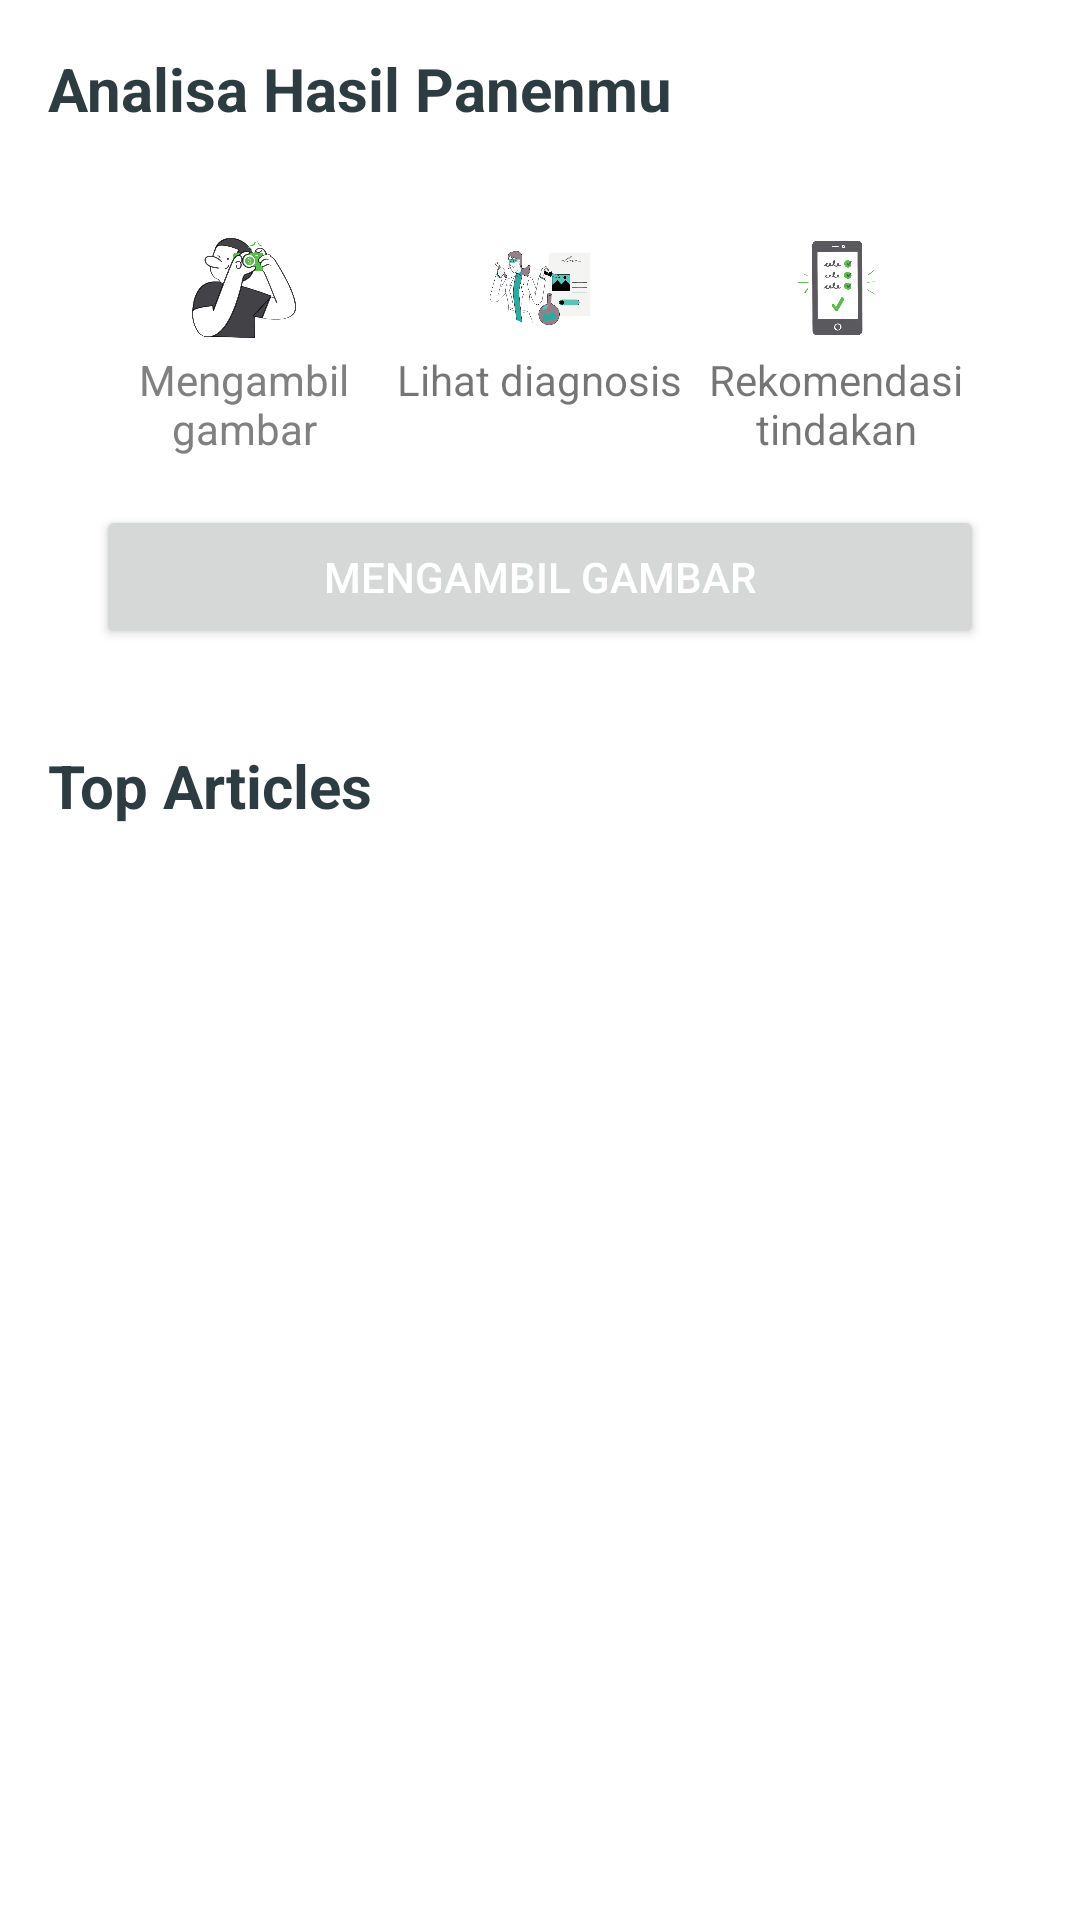

Screen size 1080x1920. Icon name, then its center in pixels as [x,y]:
analisis: [538,288]
